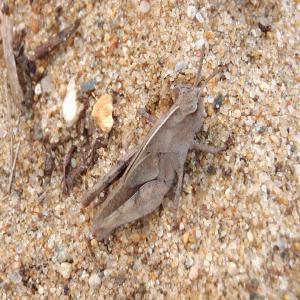locust: (83, 39, 233, 234)
